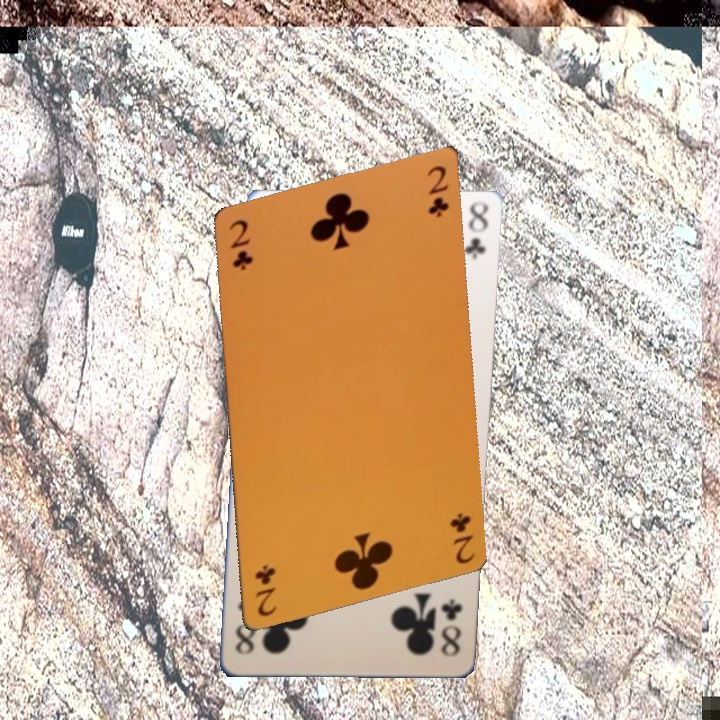2c: (248, 554, 277, 621), (421, 156, 450, 223), (224, 209, 253, 276), (446, 501, 474, 567)
8c: (436, 596, 466, 664)
